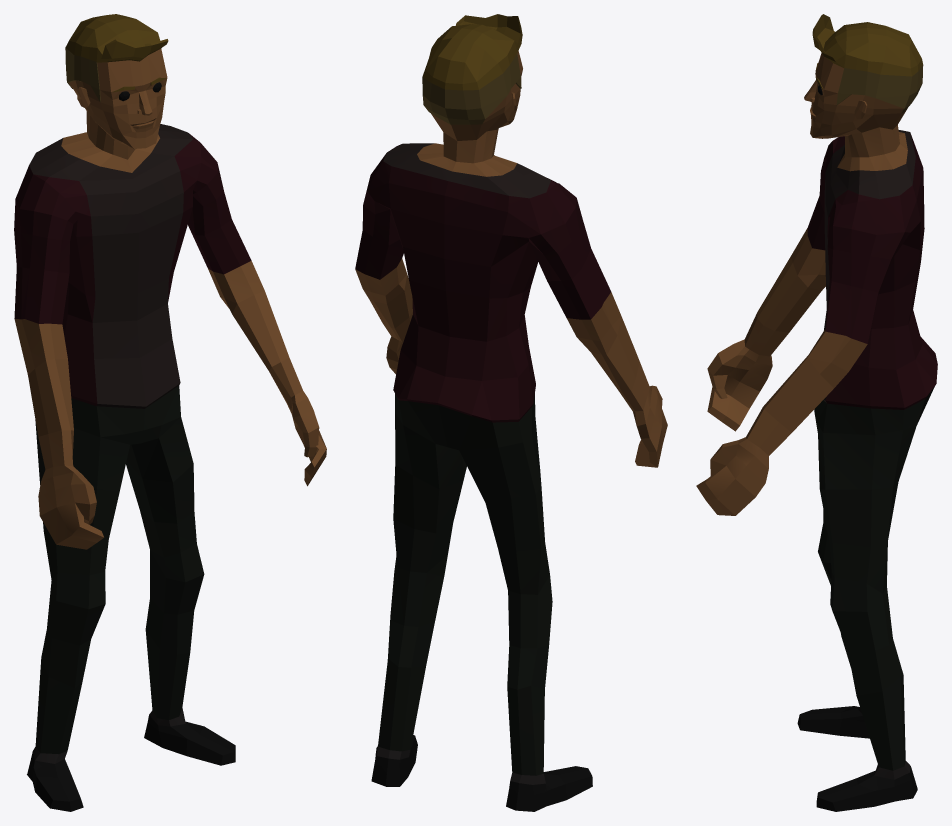
File: orangdihalte.obj
3 views of the same model, side by side, from view 1: azimuth 30°, elevation 25°; view 2: azimuth 150°, elevation 25°; view 3: azimuth 270°, elevation 25° (orthographic). The views are drawn at different scales.
Parts seen in each view (by area): view 1: BaseHuman; view 2: BaseHuman; view 3: BaseHuman.
Part boxes in pixels (x1=…): BaseHuman: x1=14, y1=14, x2=326, y2=811; BaseHuman: x1=355, y1=14, x2=667, y2=811; BaseHuman: x1=696, y1=14, x2=937, y2=811.
Bounding box in the file's own units: 6.53 × 17.46 × 5.18.
